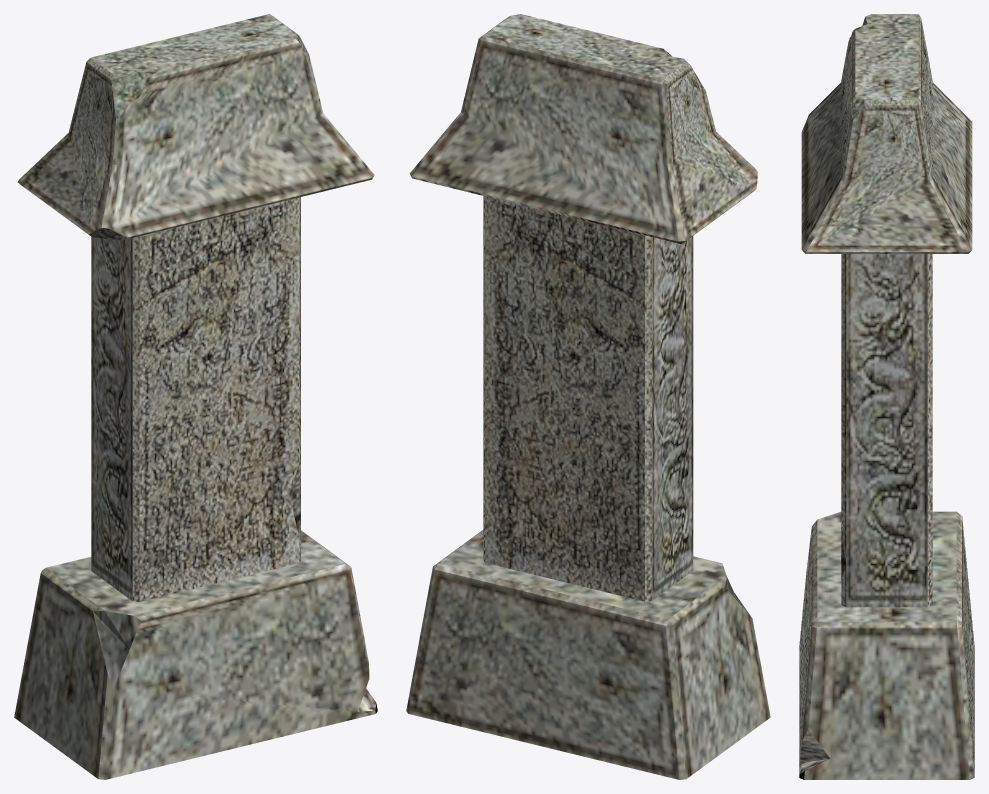
The model's file is tombstone.fbx.
3 renders of one model, left to right at view 1: azimuth 30°, elevation 25°; view 2: azimuth 150°, elevation 25°; view 3: azimuth 270°, elevation 25°, orthographic.
Parts seen in each view (by area): view 1: Object03; view 2: Object03; view 3: Object03.
Boxes of the visible parts, box(x1,y1,x2,y2) form: Object03: box(14, 14, 377, 779); Object03: box(406, 14, 770, 779); Object03: box(799, 14, 974, 779).
Size of what is drawn, in the model's own units: 2.44 by 5.56 by 1.35.
